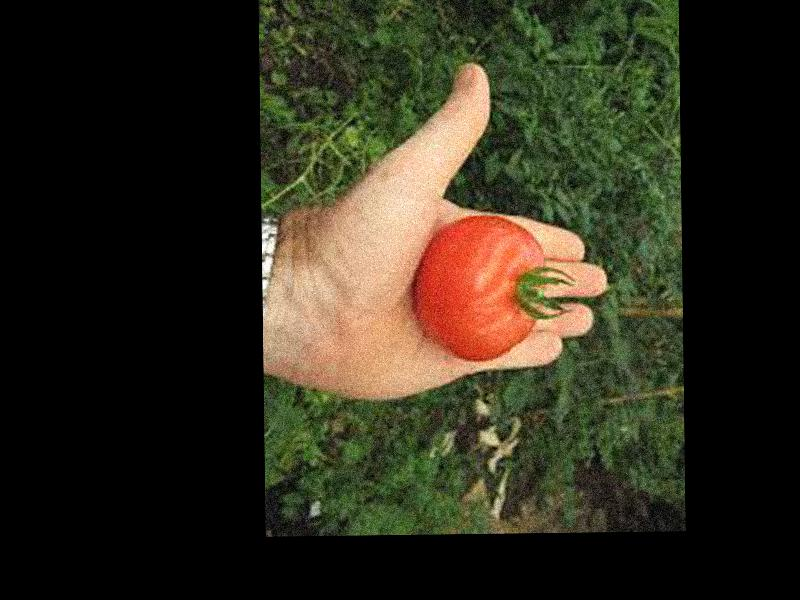Tomato: (414, 213, 544, 364)
